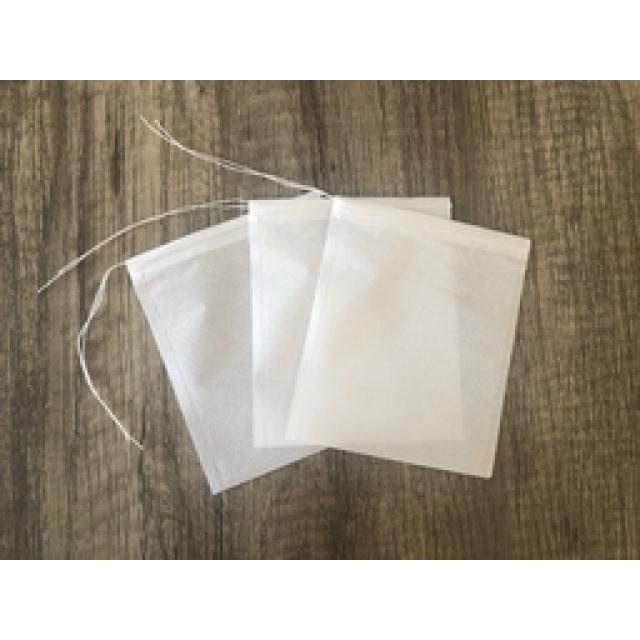tea-bags: (125, 195, 528, 488)
